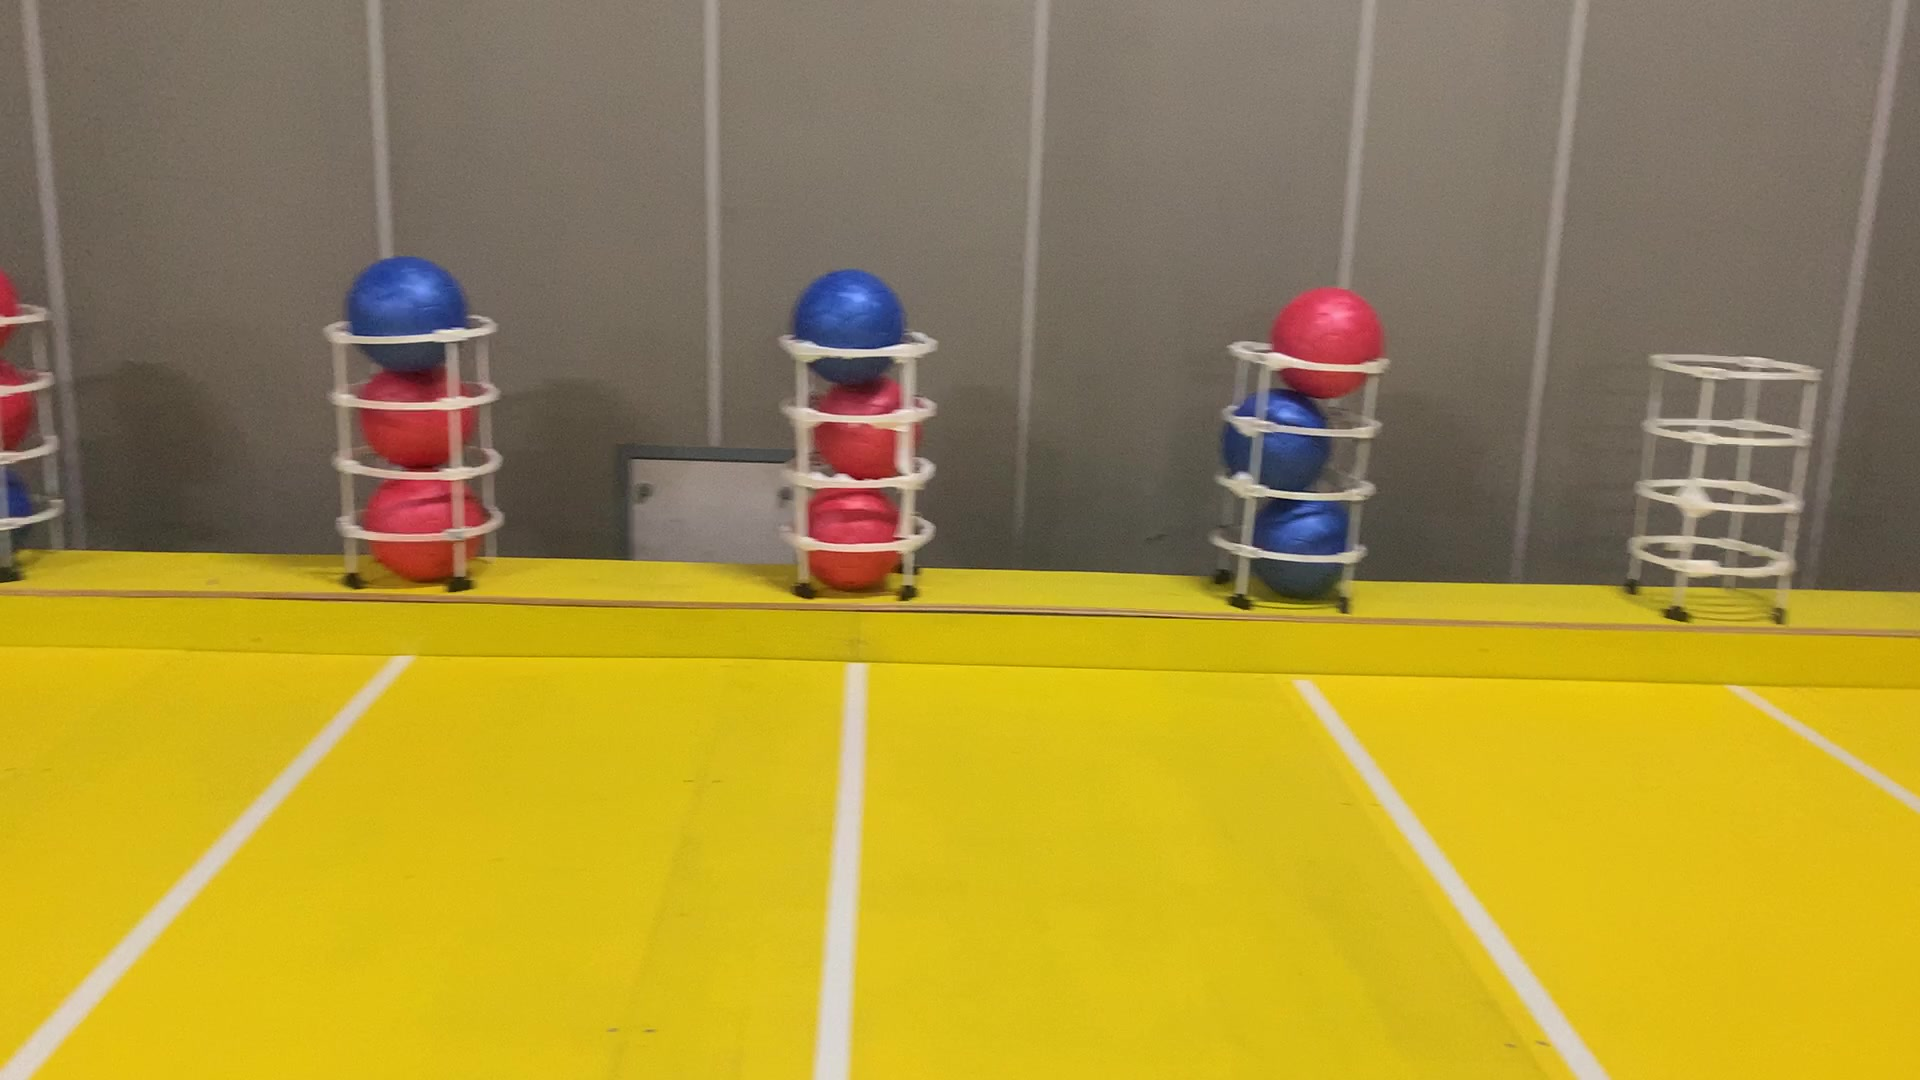blue: (336, 248, 476, 377), (782, 261, 907, 389), (1236, 489, 1358, 596), (1221, 380, 1333, 489), (0, 451, 34, 555)
red: (357, 462, 483, 584), (1270, 276, 1381, 401), (357, 357, 489, 462), (796, 473, 898, 599), (807, 377, 923, 477), (0, 352, 38, 446), (0, 260, 18, 351)
